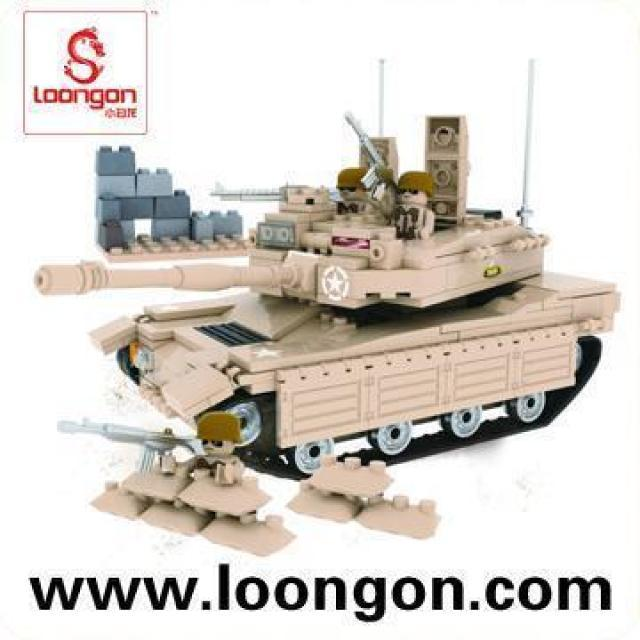MIL_MBT: (64, 158, 608, 501)
